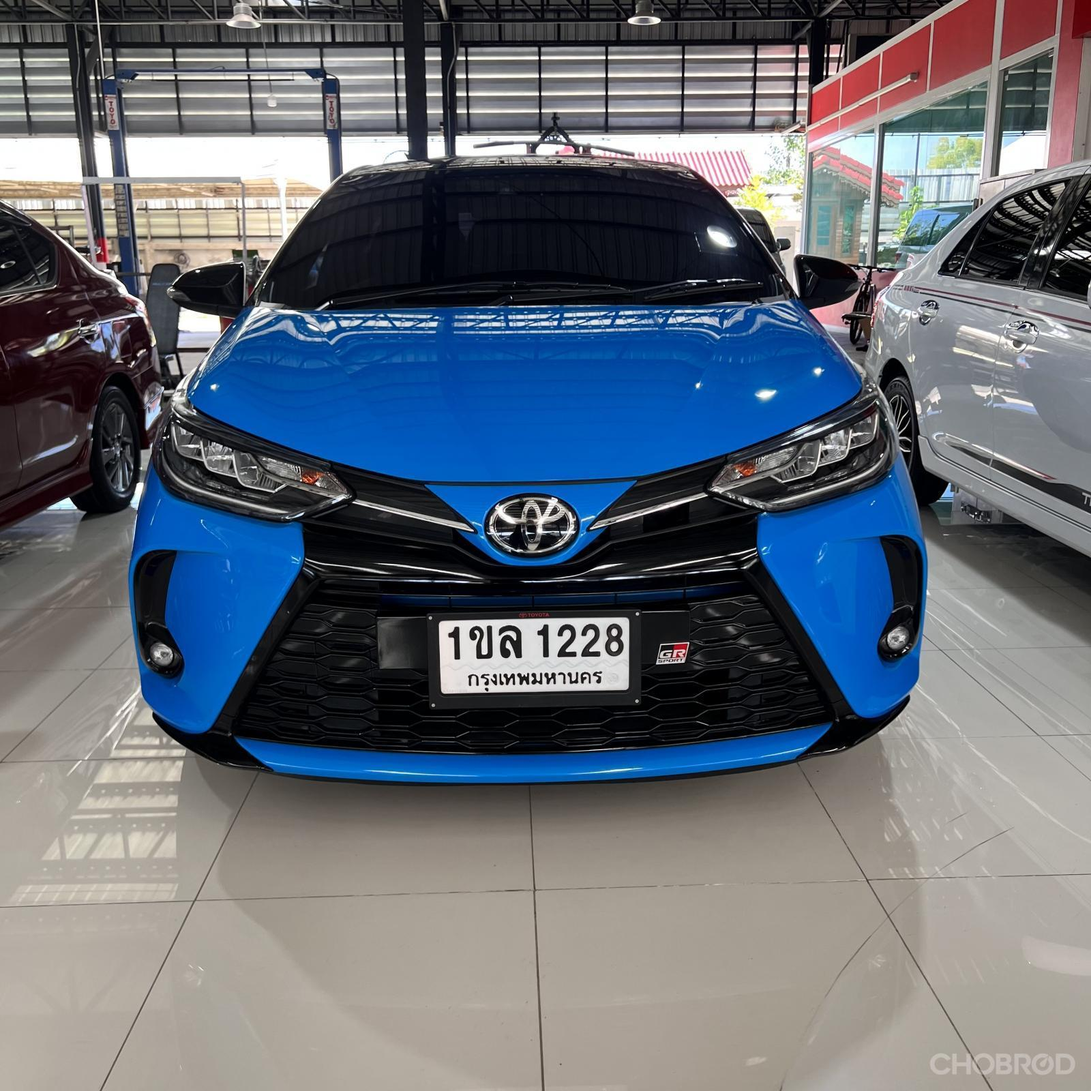license-plate: (405, 586, 648, 723)
